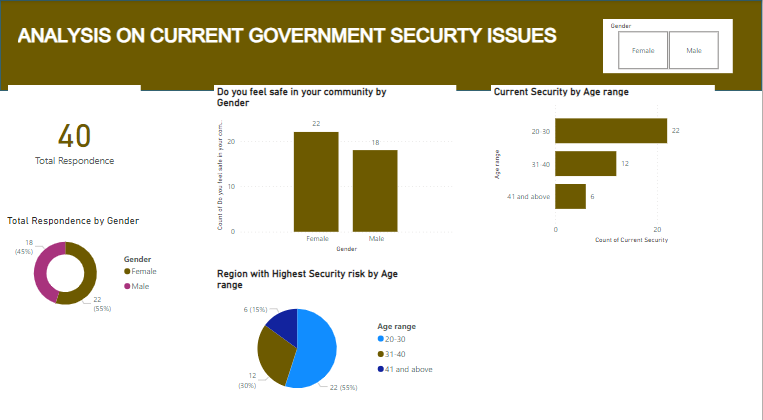

What the dashboard file says about the page in this screenshot:
{"tool":"powerbi","page":{"name":"Page 1","canvas":[1280,720],"ordinal":0},"visuals":[{"type":"shape","box":[0,0,1280,152.9],"z":0},{"type":"columnChart","title":" Do you feel safe in your community  by Gender","fields":{"Category":["Insecurity File (2).Gender"],"Y":["CountNonNull(Insecurity File (2).  Do you feel safe in your community?  )"]},"box":[359.5,142.8,406.5,285.6],"z":1000},{"type":"card","fields":{"Values":["Insecurity File (2).Total Respondence"]},"box":[13.4,142.8,223.4,178.1],"z":2000},{"type":"donutChart","title":"Total Respondence by Gender","fields":{"Category":["Insecurity File (2).Gender"],"Y":["Insecurity File (2).Total Respondence"]},"box":[6.7,359.5,272.1,178.1],"z":3000},{"type":"barChart","title":"Current Security by Age range","fields":{"Category":["Insecurity File (2).Age range"],"Y":["CountNonNull(Insecurity File (2).Current Security)"]},"box":[824.8,142.8,376.3,270.4],"z":4000},{"type":"pieChart","title":"Region with Highest Security risk by Age range","fields":{"Category":["Insecurity File (2).Age range"],"Y":["CountNonNull(Insecurity File (2).Region with Highest Security risk)"]},"box":[359.5,448.5,381.3,231.8],"z":5000},{"type":"slicer","fields":{"Values":["Insecurity File (2).Gender"]},"box":[1012.9,31.9,218.4,90.7],"z":5001},{"type":"textbox","box":[25.2,31.9,939,58.8],"z":5002}]}

Visuals, with their boxes in screenshot pixels (x1, y1, x2, y2), scaled from the page's 1280x720 canvas onto the 763x420 screenshot:
shape: <bbox>0, 0, 762, 89</bbox>
" Do you feel safe in your community  by Gender" columnChart: <bbox>214, 83, 457, 250</bbox>
card - Insecurity File (2).Total Respondence: <bbox>8, 83, 141, 187</bbox>
"Total Respondence by Gender" donutChart: <bbox>4, 210, 166, 314</bbox>
"Current Security by Age range" barChart: <bbox>492, 83, 716, 241</bbox>
"Region with Highest Security risk by Age range" pieChart: <bbox>214, 262, 442, 397</bbox>
slicer - Insecurity File (2).Gender: <bbox>604, 19, 734, 72</bbox>
textbox: <bbox>15, 19, 575, 53</bbox>
